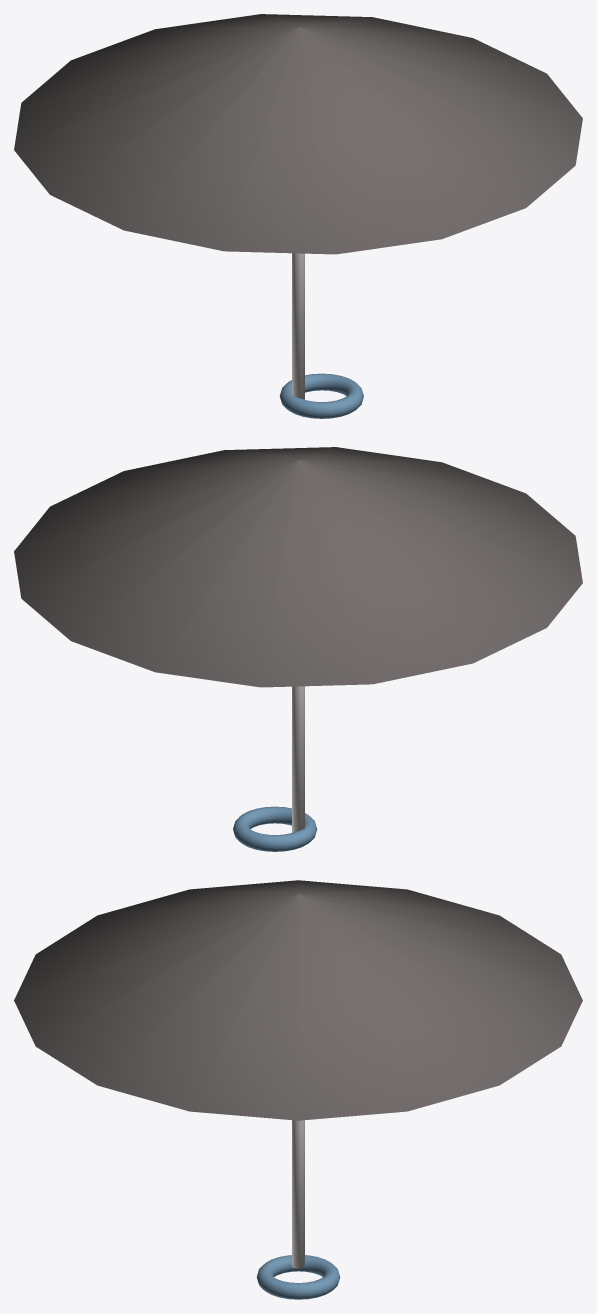
The model's file is umbrella.glb.
3 views of the same model, one above another, from view 1: azimuth 30°, elevation 25°; view 2: azimuth 150°, elevation 25°; view 3: azimuth 270°, elevation 25° (orthographic).
Visible parts, largest first — view 1: canopy, handle, shaft; view 2: canopy, handle, shaft; view 3: canopy, handle, shaft.
Part boxes in pixels (<box>): canopy: <box>14,14,582,254</box>; handle: <box>279,373,363,418</box>; shaft: <box>292,253,304,399</box>; canopy: <box>14,447,582,687</box>; handle: <box>233,806,317,851</box>; shaft: <box>292,686,304,832</box>; canopy: <box>14,880,582,1120</box>; handle: <box>256,1255,340,1299</box>; shaft: <box>292,1120,304,1268</box>.
Size of the model in its own units: 1.7 by 1.25 by 1.7.
